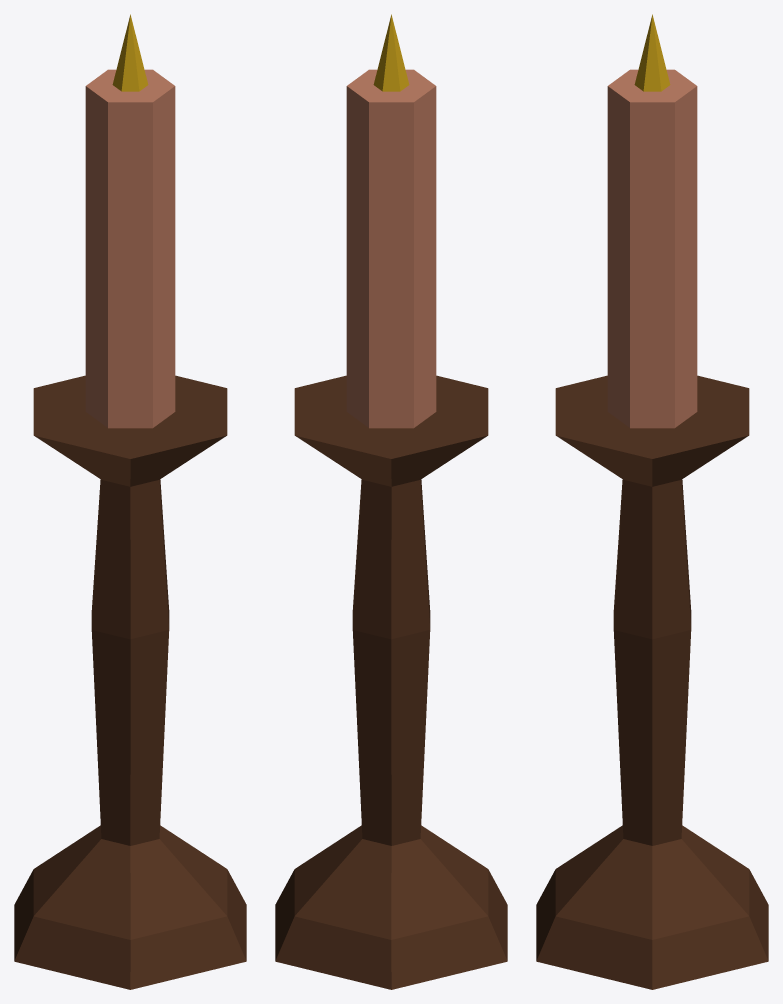
File: candle-holder-14.glb
3 views of the same model, side by side, from view 1: azimuth 30°, elevation 25°; view 2: azimuth 150°, elevation 25°; view 3: azimuth 270°, elevation 25° (orthographic).
Visible parts, largest first — view 1: candle_holder_14; view 2: candle_holder_14; view 3: candle_holder_14.
Boxes of the visible parts, x1=… form: candle_holder_14: x1=14, y1=14, x2=246, y2=989; candle_holder_14: x1=275, y1=14, x2=507, y2=989; candle_holder_14: x1=536, y1=14, x2=768, y2=989.
Bounding box in the file's own units: 0.12 × 0.4534 × 0.1039.
